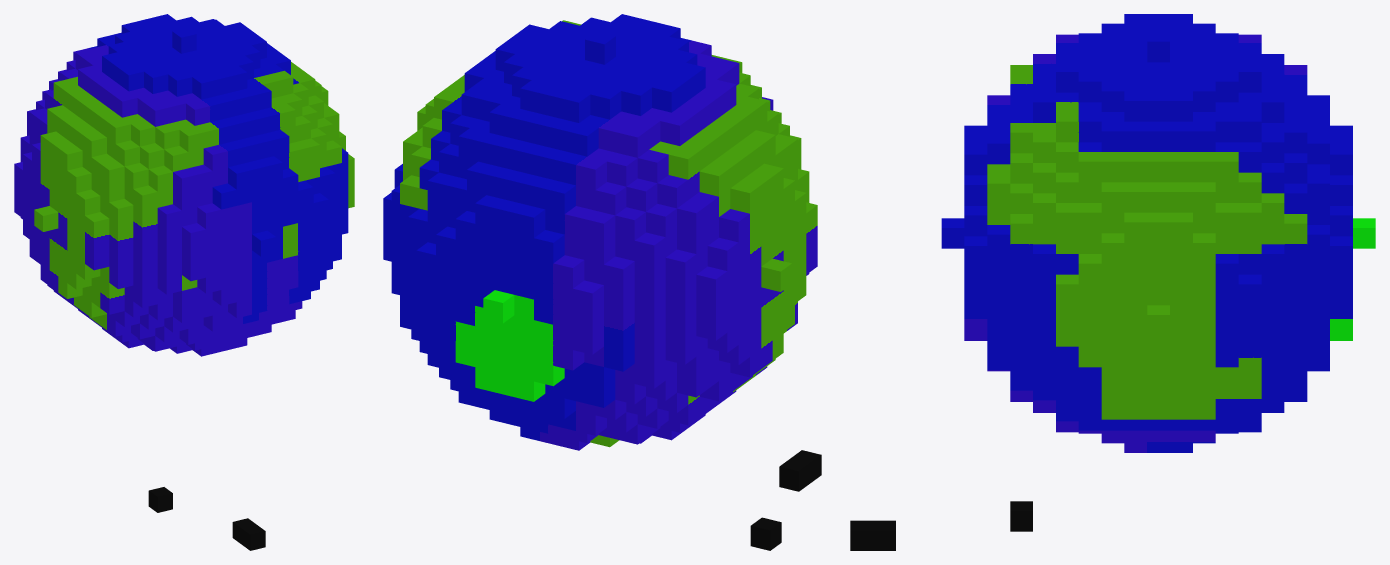
Rendered from 八大行星_地球.gltf.
The picture shows the model from 3 angles, left to right: view 1: azimuth 30°, elevation 25°; view 2: azimuth 150°, elevation 25°; view 3: azimuth 270°, elevation 25°; orthographic projection. The views are drawn at different scales.
Visible parts, largest first — view 1: Object; view 2: Object; view 3: Object.
Part boxes in pixels (bbox=[...]): Object: bbox=[14, 14, 354, 550]; Object: bbox=[383, 14, 821, 550]; Object: bbox=[850, 14, 1375, 550].
Bounding box in the file's own units: 19 × 26 × 23.
Materials: 1 (1 with a texture image).
